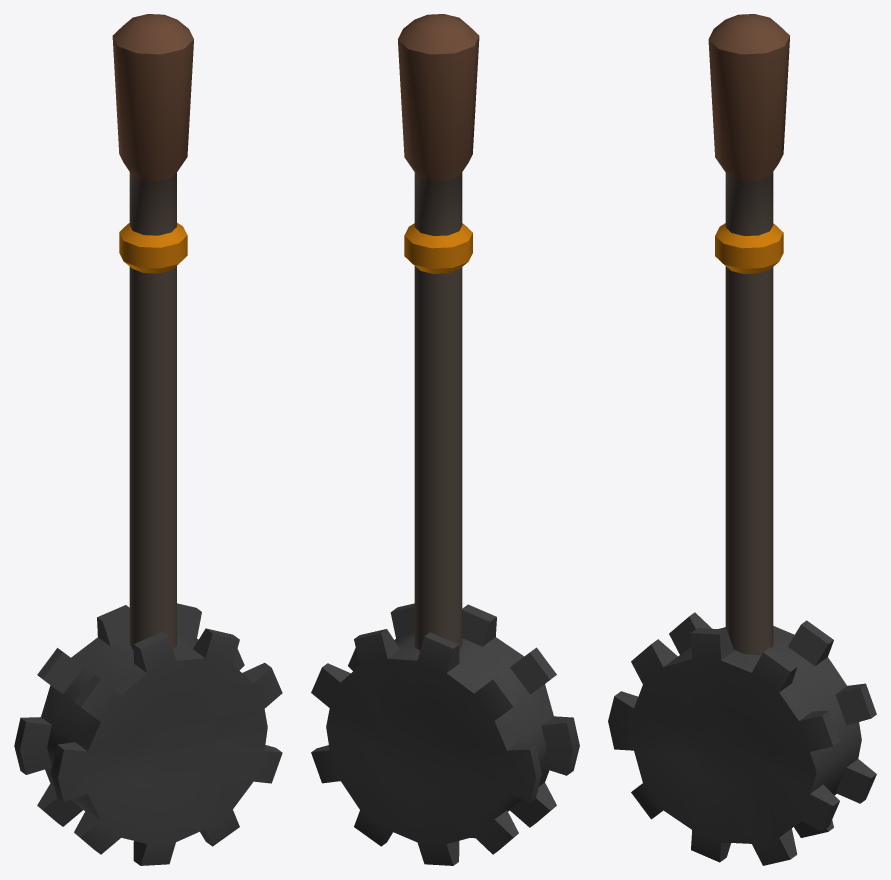
Rendered from SM_Lever_Stick.FBX.
3 views of the same model, side by side, from view 1: azimuth 30°, elevation 25°; view 2: azimuth 150°, elevation 25°; view 3: azimuth 330°, elevation 25° (orthographic).
Parts seen in each view (by area): view 1: Object001; view 2: Object001; view 3: Object001.
Part boxes in pixels (left/top/right/bottom): Object001: left=14, top=14, right=282, bottom=865; Object001: left=311, top=14, right=579, bottom=865; Object001: left=608, top=14, right=876, bottom=865.
Size of the model in its own units: 27.14 by 95.45 by 10.6.
